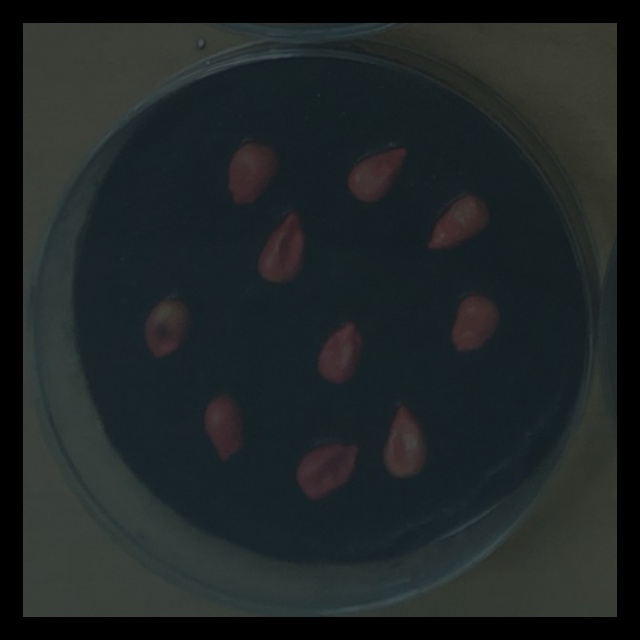Zea mays: (288, 436, 366, 507), (250, 203, 312, 291), (376, 397, 436, 487), (340, 139, 414, 210), (420, 189, 498, 256), (223, 137, 285, 213), (309, 315, 369, 392), (444, 287, 507, 360), (137, 293, 199, 366), (198, 387, 252, 470)
